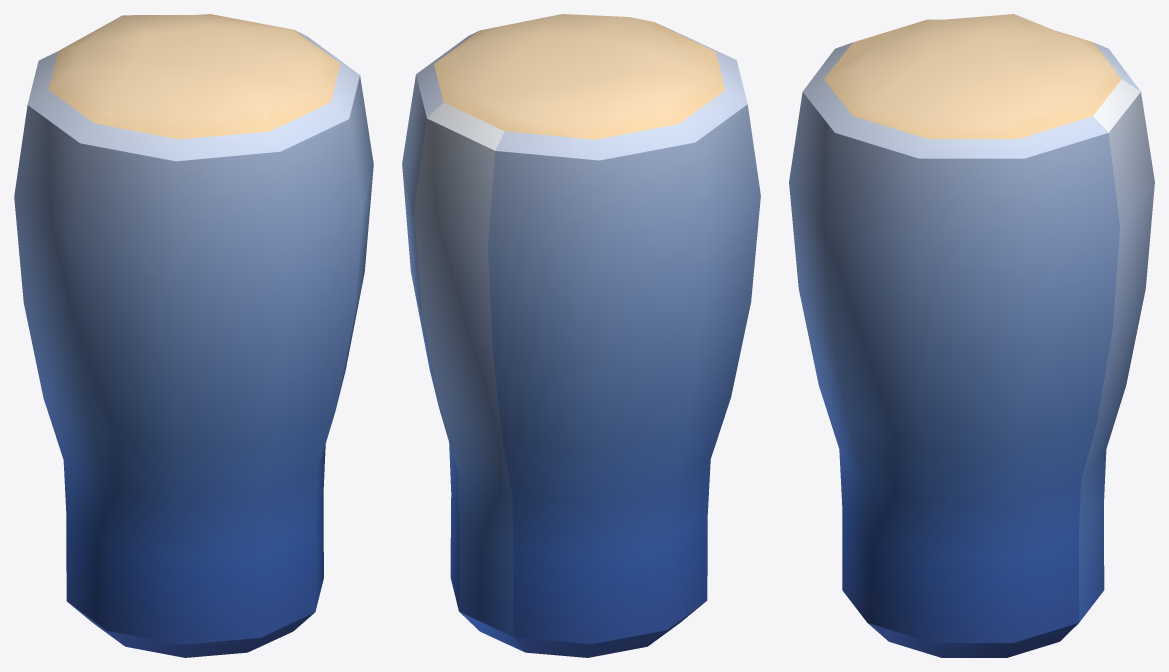
File: m_GuinnessBeer01.fbx
The picture shows the model from 3 angles, left to right: view 1: azimuth 30°, elevation 25°; view 2: azimuth 150°, elevation 25°; view 3: azimuth 270°, elevation 25°; orthographic projection.
Visible parts, largest first — view 1: m_GuinnessBeer01; view 2: m_GuinnessBeer01; view 3: m_GuinnessBeer01.
Part boxes in pixels (x1=…): m_GuinnessBeer01: x1=14, y1=14, x2=373, y2=657; m_GuinnessBeer01: x1=402, y1=14, x2=760, y2=657; m_GuinnessBeer01: x1=789, y1=14, x2=1154, y2=657.
Bounding box in the file's own units: 12.89 × 22.79 × 13.55.
